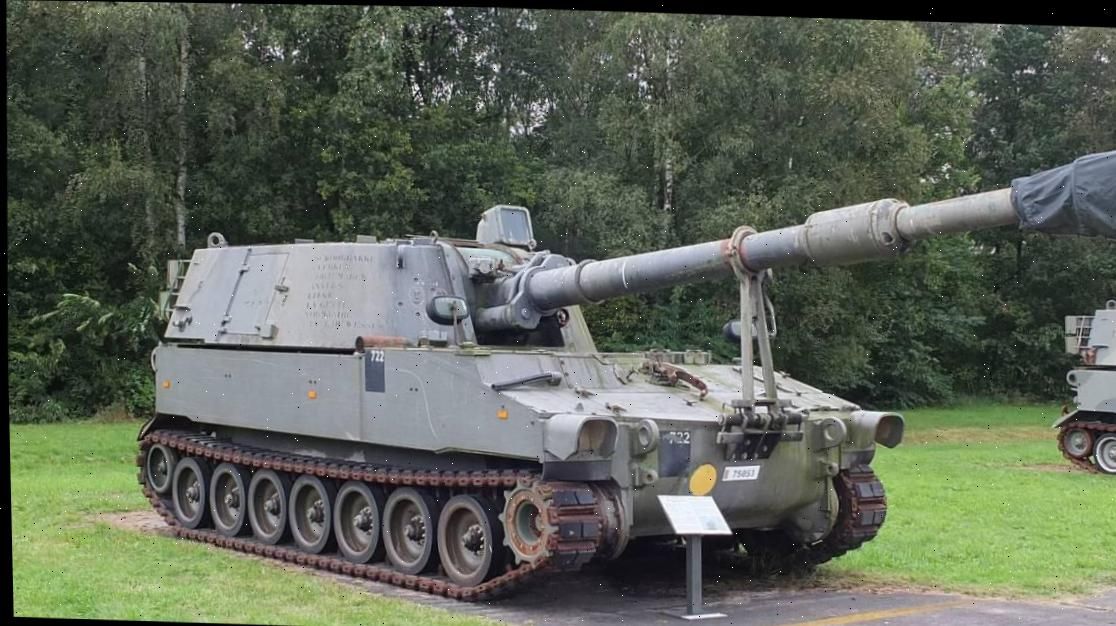sau: (98, 99, 1116, 626)
